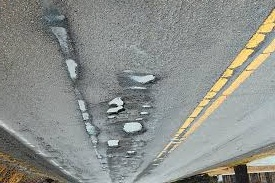pothole: (50, 27, 75, 57), (62, 58, 82, 85), (126, 71, 159, 86), (106, 95, 126, 116), (121, 120, 146, 133), (75, 122, 100, 135), (42, 13, 65, 22), (75, 99, 89, 112), (77, 110, 92, 121), (106, 138, 120, 149), (88, 133, 100, 144), (126, 150, 138, 157), (142, 102, 154, 109), (137, 111, 149, 116)
